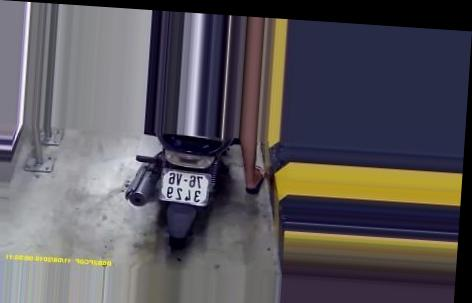License_Plate: (154, 165, 215, 208)
